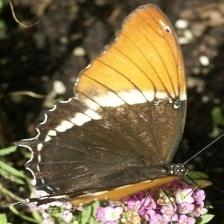butterfly: (17, 5, 187, 206)
